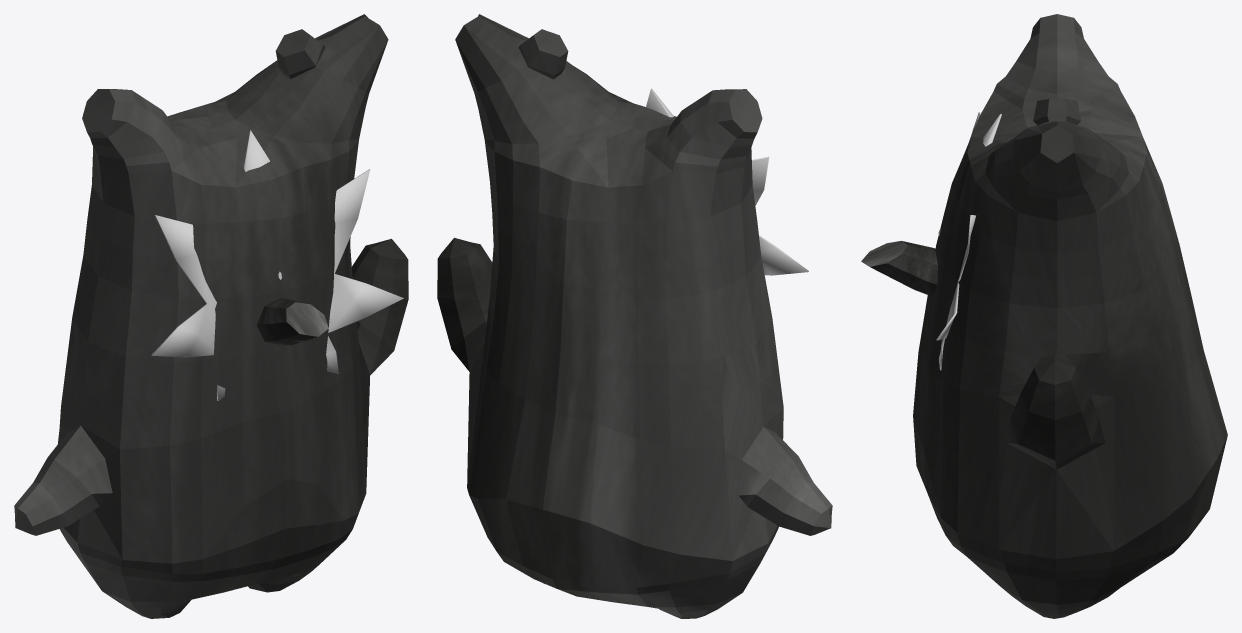
File: frame_0043.obj
The picture shows the model from 3 angles, left to right: view 1: azimuth 30°, elevation 25°; view 2: azimuth 150°, elevation 25°; view 3: azimuth 270°, elevation 25°; orthographic projection. The views are drawn at different scales.
Visible parts, largest first — view 1: korok, leaf.003_柱体.013, nose.003_柱体.011; view 2: korok, leaf.003_柱体.013; view 3: korok, nose.003_柱体.011, leaf.003_柱体.013.
Part boxes in pixels (<box>): korok: <box>14,14,408,618</box>; leaf.003_柱体.013: <box>151,130,403,400</box>; nose.003_柱体.011: <box>257,298,328,345</box>; korok: <box>437,14,832,618</box>; leaf.003_柱体.013: <box>646,88,808,275</box>; korok: <box>913,14,1227,618</box>; nose.003_柱体.011: <box>861,241,937,296</box>; leaf.003_柱体.013: <box>936,112,1001,370</box>.
Size of the model in its own units: 1.63 by 2.19 by 1.36.
